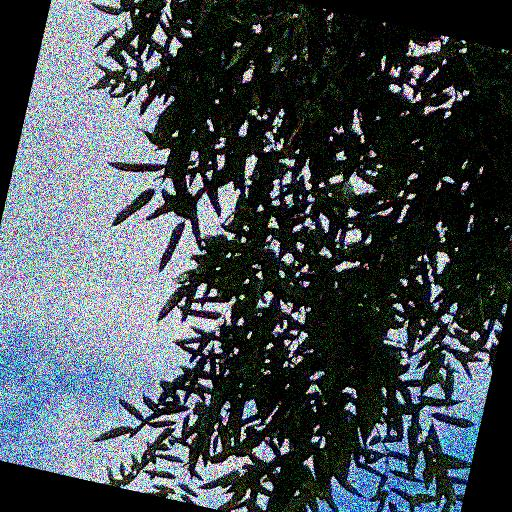tree: (87, 1, 511, 511)
